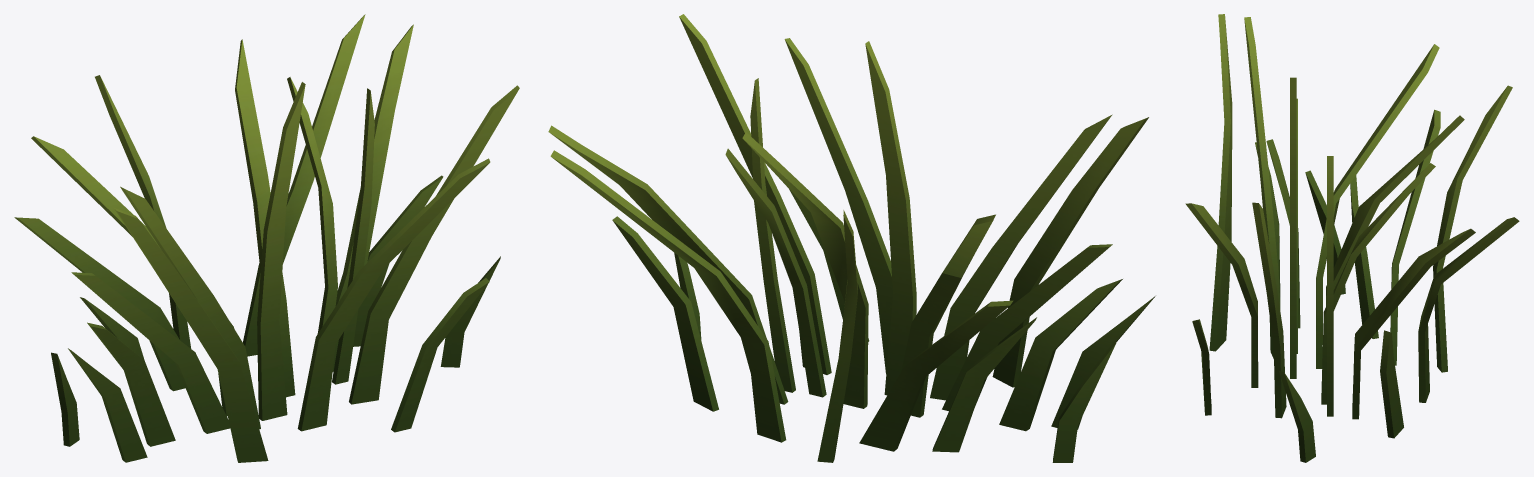
The model's file is grass_clump.glb.
The picture shows the model from 3 angles, left to right: view 1: azimuth 30°, elevation 25°; view 2: azimuth 150°, elevation 25°; view 3: azimuth 270°, elevation 25°; orthographic projection. The views are drawn at different scales.
Parts seen in each view (by area): view 1: Grass_Large_Extruded; view 2: Grass_Large_Extruded; view 3: Grass_Large_Extruded.
Part boxes in pixels (bbox=[...]): Grass_Large_Extruded: bbox=[14, 14, 519, 462]; Grass_Large_Extruded: bbox=[548, 14, 1155, 462]; Grass_Large_Extruded: bbox=[1185, 14, 1519, 462].
Bounding box in the file's own units: 0.7447 × 0.5089 × 0.4973.
1 material, 1 textured.
